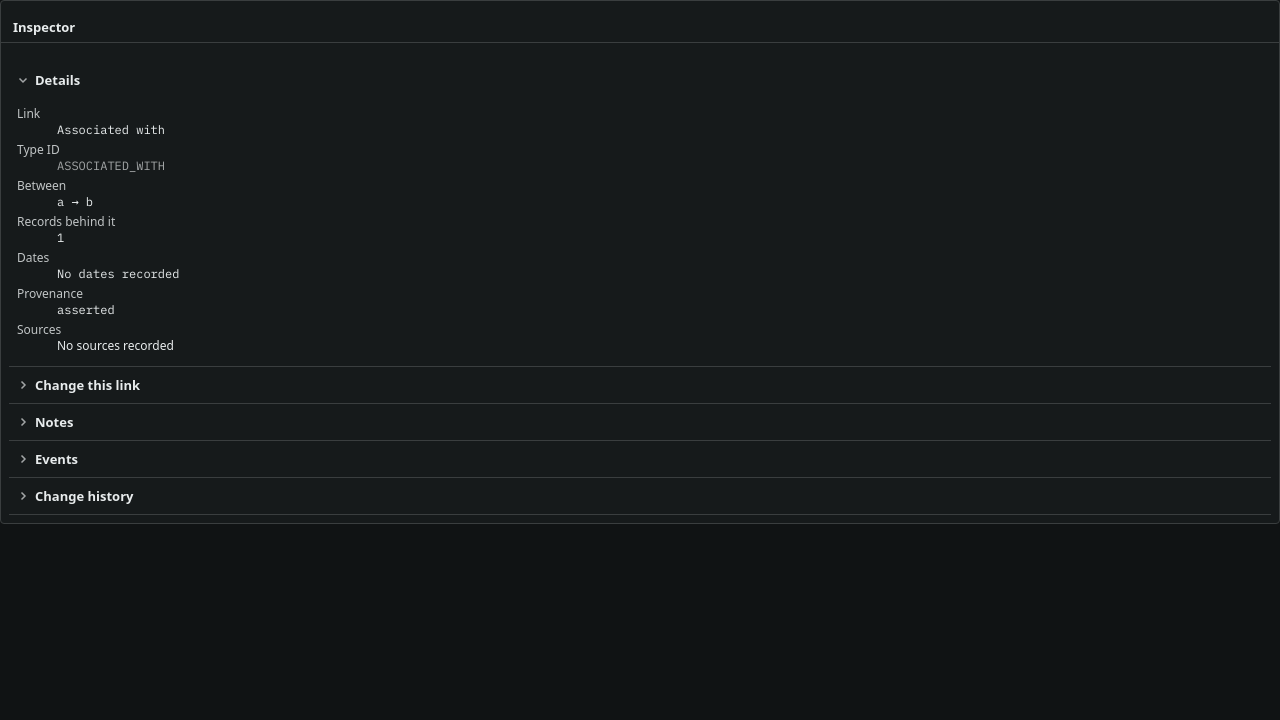
Scenario: Inspector — a selected link › offers a change and a history for an ordinary link, once the ends and the ontology are known (ADR-080)
Expected: the button "Change this link" is shown, [9, 367, 1271, 403]
What coordinates should you click on to do the following:
click the button "Change history"
I would click on:
 (84, 496)
Its box is [9, 478, 1271, 514].
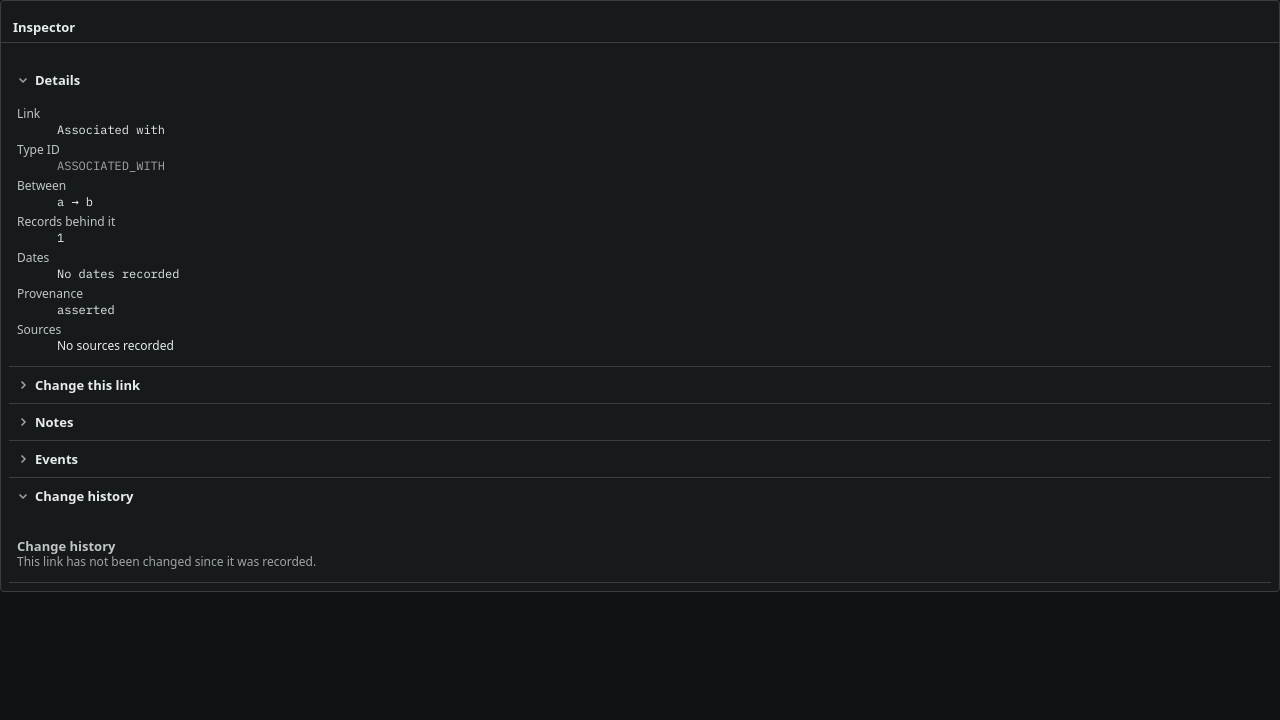
Expected: the element "Change history" is shown, [17, 537, 316, 570]
